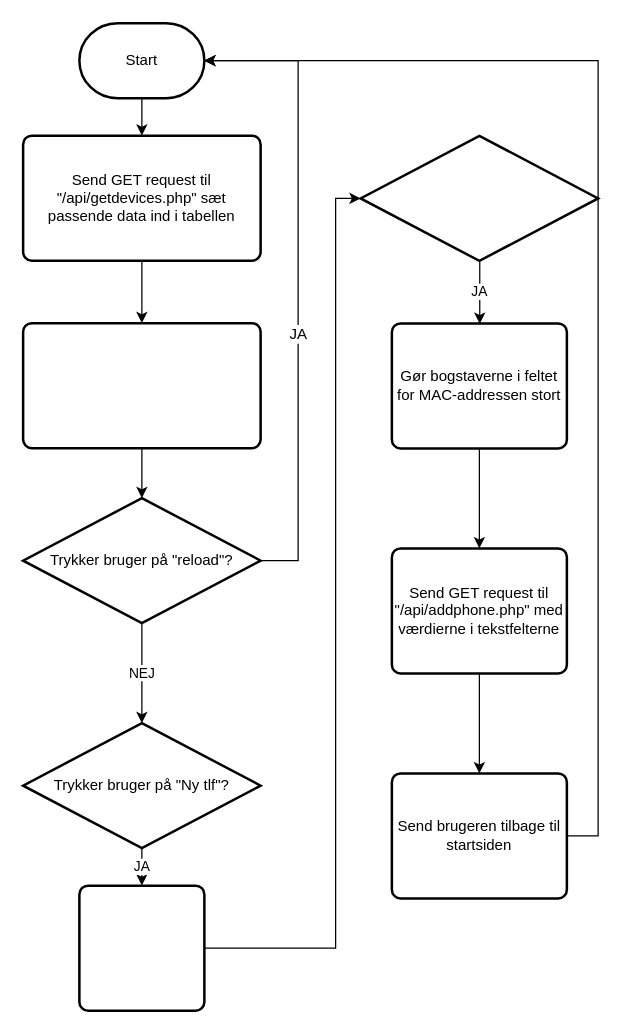
Image size: 630x1033. Some labels were removed from this diagram. The shapes that lost their labels are listed below. From the top down, each one's centre as x and y in pixels, then its label:
(x=479, y=198): Trykker bruger på "Tilføj"?
(x=141, y=385): Send GET request til "/api/gettargets.php" sæt passende data ind i tabellen
(x=141, y=947): Send bruger til "newphone.html"
